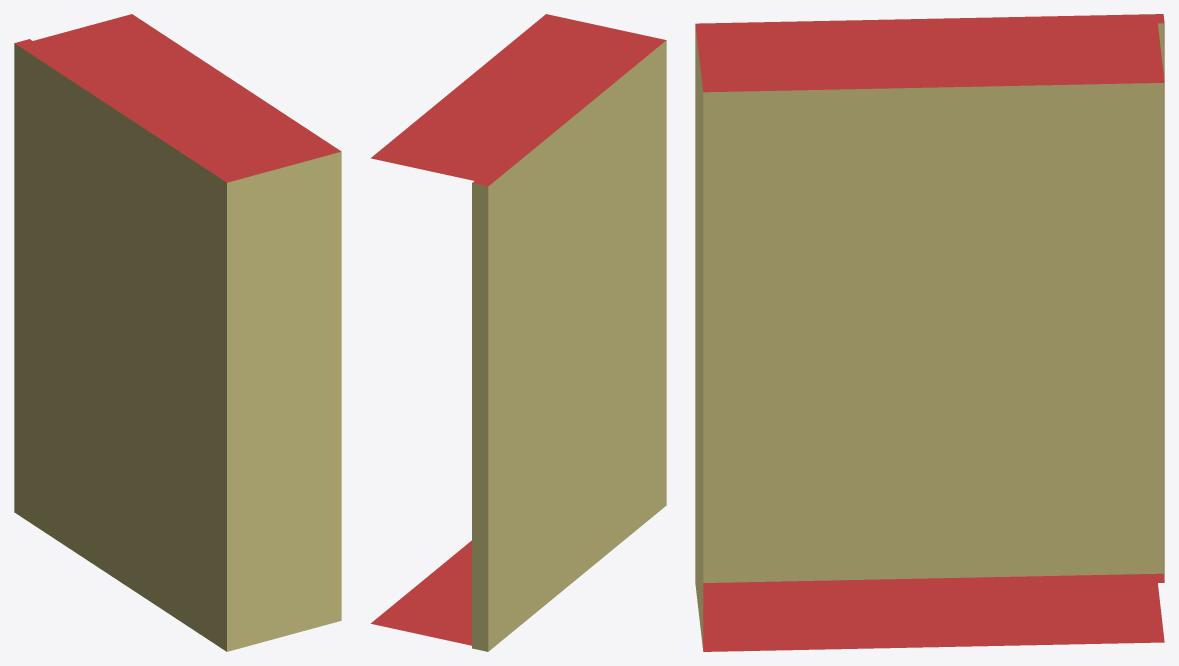
3 renders of one model, left to right at view 1: azimuth 30°, elevation 25°; view 2: azimuth 150°, elevation 25°; view 3: azimuth 270°, elevation 25°, orthographic. The views are drawn at different scales.
Parts seen in each view (by area): view 1: group_4, group_3; view 2: group_4, group_3, group_5; view 3: group_4, group_3, group_5.
Boxes of the visible parts, x1,y1,x2,y2 form: group_4: [14, 43, 341, 651]; group_3: [14, 14, 341, 182]; group_4: [472, 40, 666, 651]; group_3: [371, 14, 666, 186]; group_5: [371, 540, 471, 645]; group_4: [695, 23, 1164, 650]; group_3: [695, 14, 1164, 92]; group_5: [703, 573, 1164, 651].
Size of the model in its own units: 2.47 by 6.25 by 8.23.
